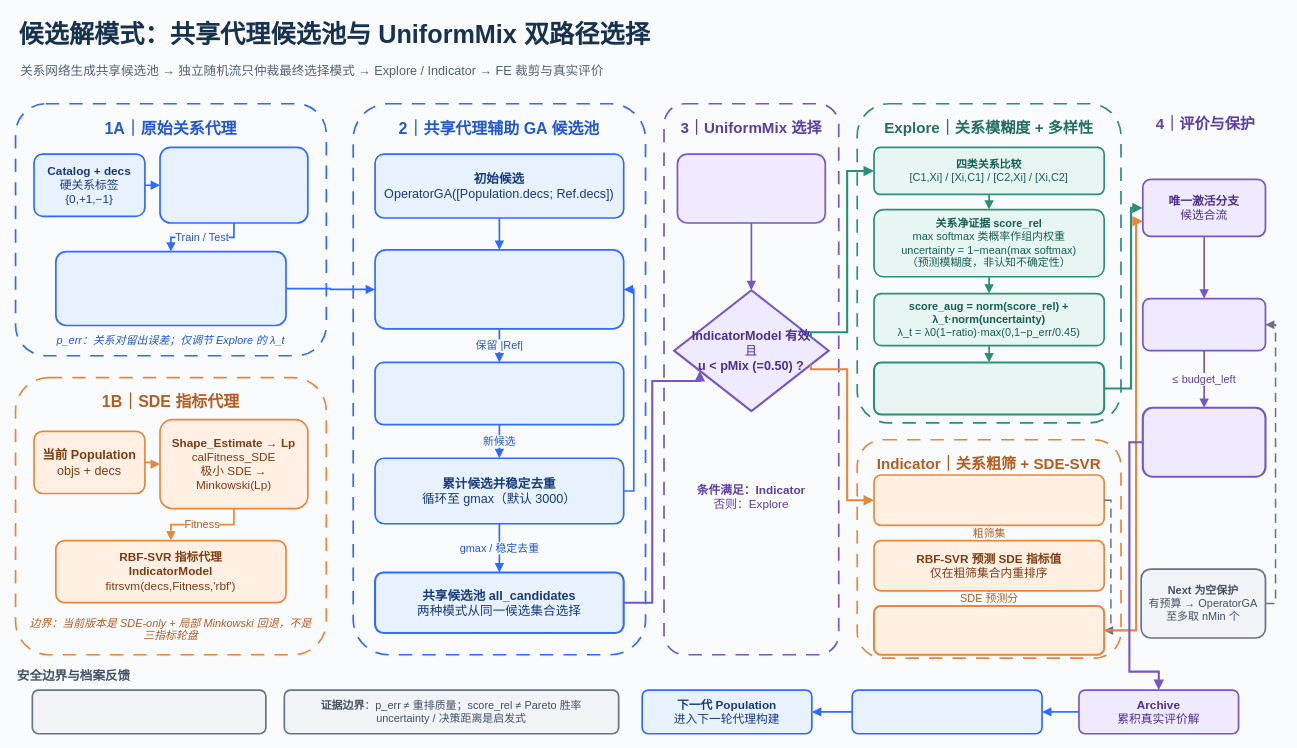
The diagram is 1297 pixels wide and 748 high, and some of its shapes have lost their labels. Each missing label, with the centre of its shape:
"GetRelationPairs DataProcess：按标签分层 75% 训练 / 25% 留出" goes at point (233, 184).
"OperatorGA 由保留集生成新候选" goes at point (499, 393).
"qKeep=0.80 分位筛选；不足 nMin 则补足 贪心批选：0.75·质量 + 0.25·决策距离 → 4…6 个" goes at point (989, 388).
"RefSelect(Archive, Problem.N) 环境选择" goes at point (946, 711).
"≥ 70% 分位点 SVR 无效时沿用关系分数 输出 nMin…nMax（4…6）个" goes at point (989, 630).
"关系代理排序 model_select 保留 |Ref| 个候选 关系网络贯穿候选池生成" goes at point (499, 289).
"关系对为空 本代不训练 / 不选择 → 直接 RefSelect" goes at point (148, 711).
"关系得分粗筛 前 30%，且至少保留 20 个" goes at point (989, 500).
"剩余 FE 裁剪 budget_left" goes at point (1204, 324).
"普通三分类 patternnet mapminmax；隐藏层 [⌈3D⌉,2D,D] 无样本权重；输出关系得分" goes at point (170, 288).
"独立 RandStream 每代预先抽取 u∈[0,1)" goes at point (751, 188).
"真实评价 Problem.Evaluation 追加 Archive" goes at point (1203, 441).
